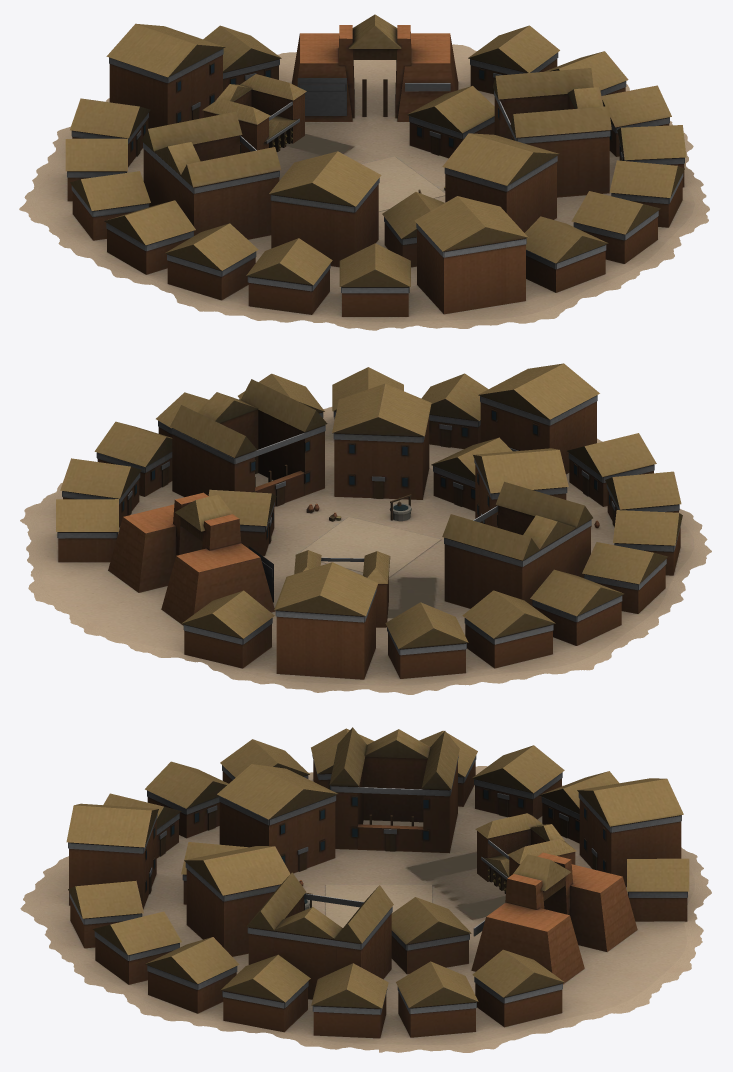
Rendered from classical-town-big-a-westafrica-13bb327c.glb.
3 views of the same model, one above another, from view 1: azimuth 30°, elevation 25°; view 2: azimuth 150°, elevation 25°; view 3: azimuth 270°, elevation 25° (orthographic).
Parts seen in each view (by area): view 1: LOD0; view 2: LOD0; view 3: LOD0.
Boxes of the visible parts, x1,y1,x2,y2 form: LOD0: [19, 14, 709, 330]; LOD0: [20, 363, 711, 694]; LOD0: [20, 727, 711, 1052].
Size of what is drawn, in the model's own units: 7.91 by 1.15 by 8.
Materials: 3 (3 with a texture image).
